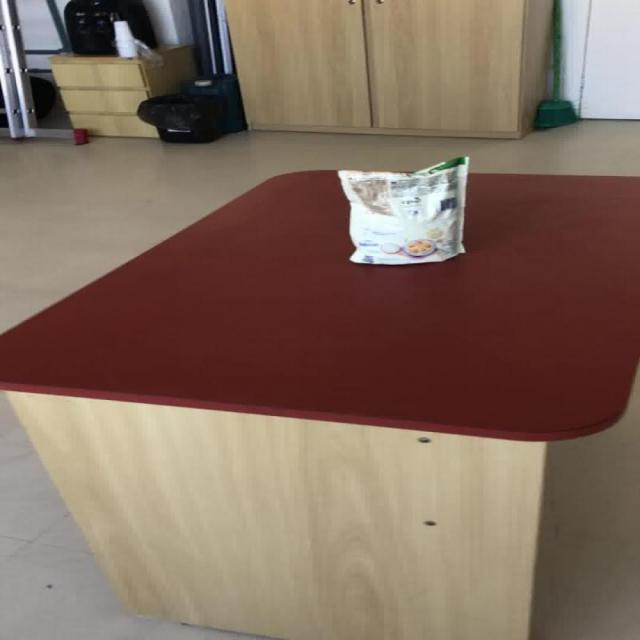CornFlakes: (335, 155, 468, 265)
